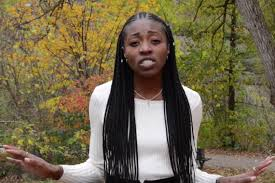no-mask: (117, 11, 173, 82)
